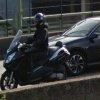Motorcycle: (2, 23, 72, 88)
